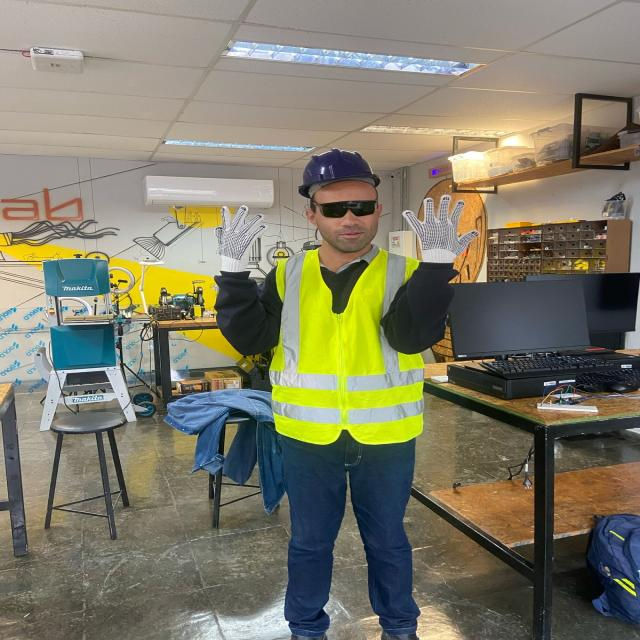BOTA: (378, 626, 430, 640), (289, 629, 336, 640)
CAPACETE: (294, 146, 389, 196)
COLETE: (266, 240, 435, 450)
LUVA: (397, 196, 489, 267), (213, 206, 272, 274)
OCULOS: (315, 192, 381, 219)
